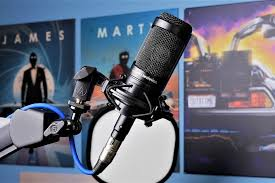microphone: (110, 11, 194, 122)
